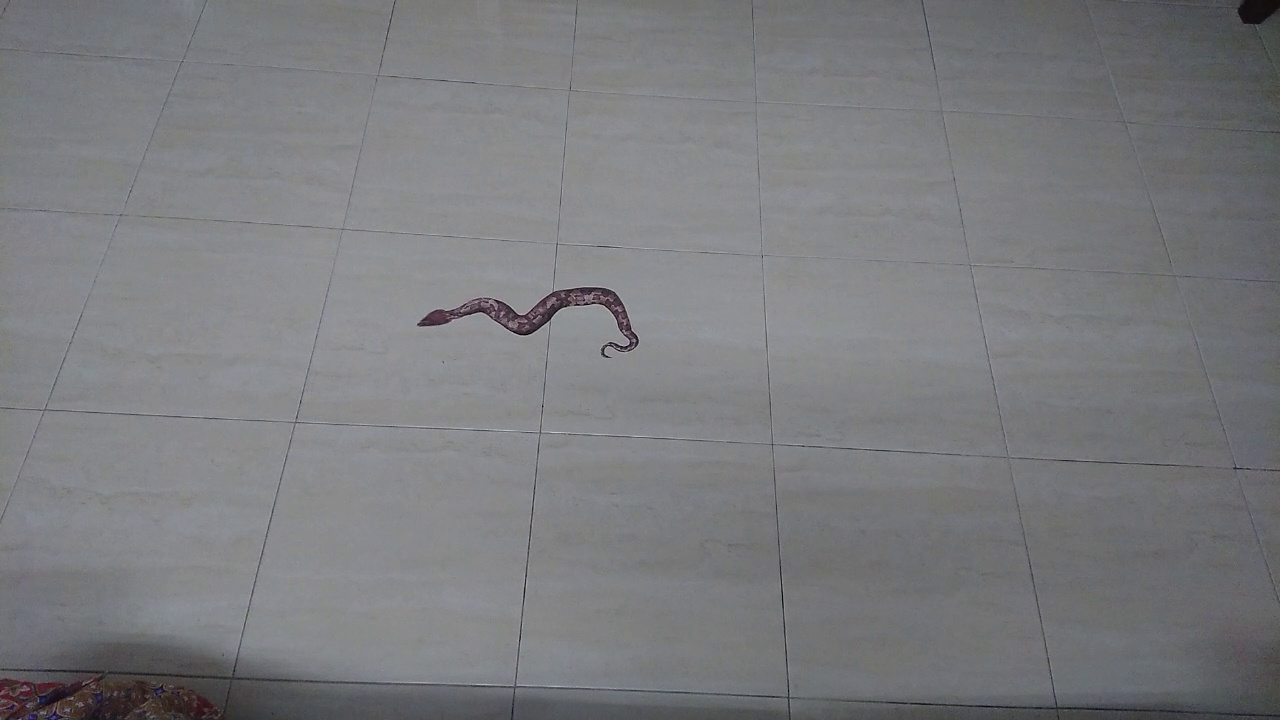snake: (398, 265, 652, 368)
